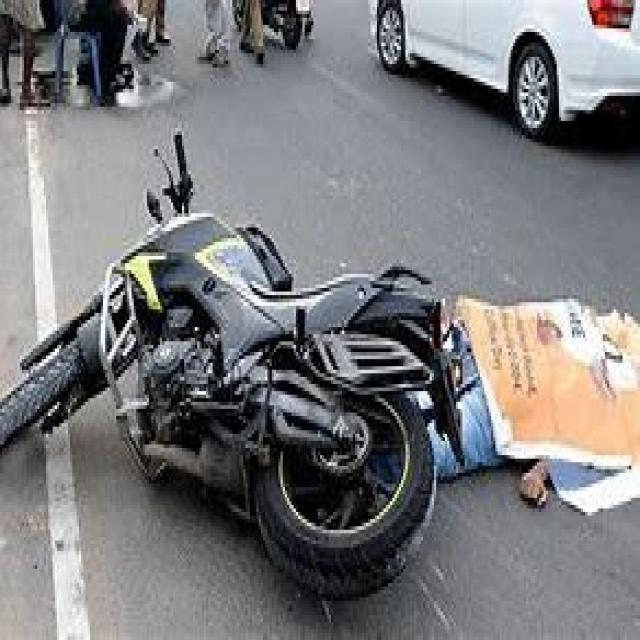Nguy hiểm: (0, 114, 640, 615)
